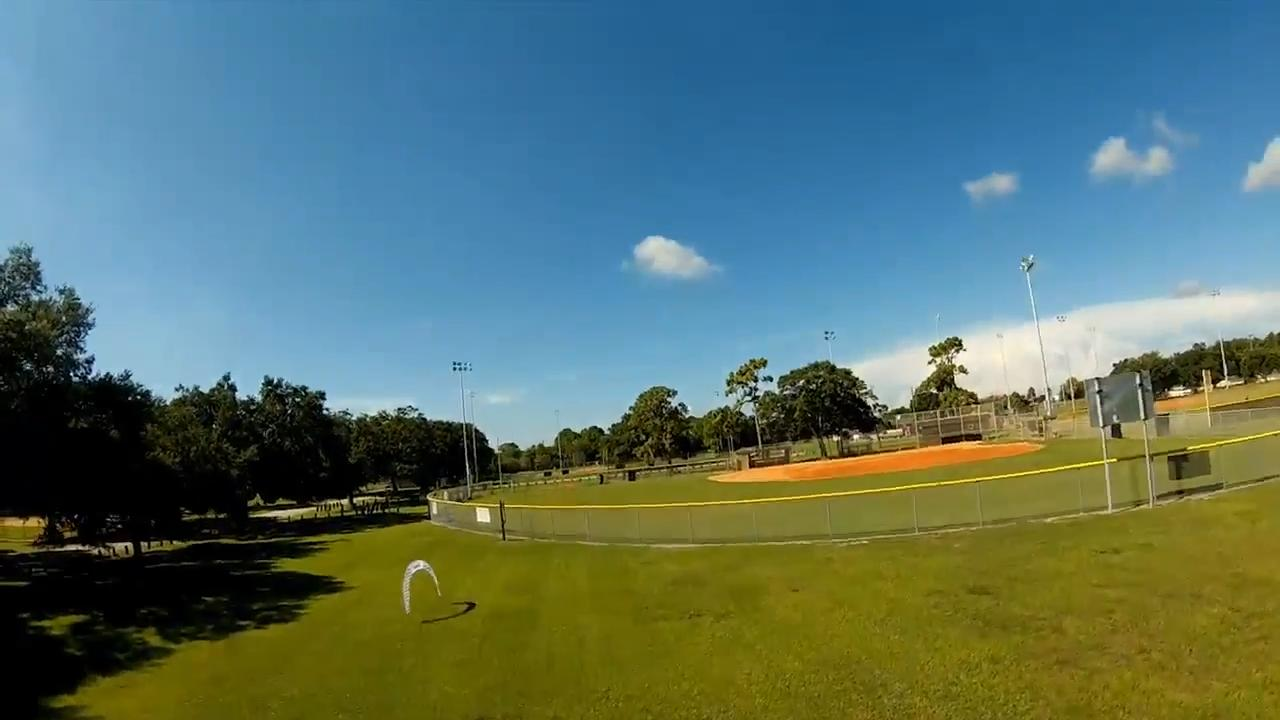gate: (400, 557, 444, 615)
